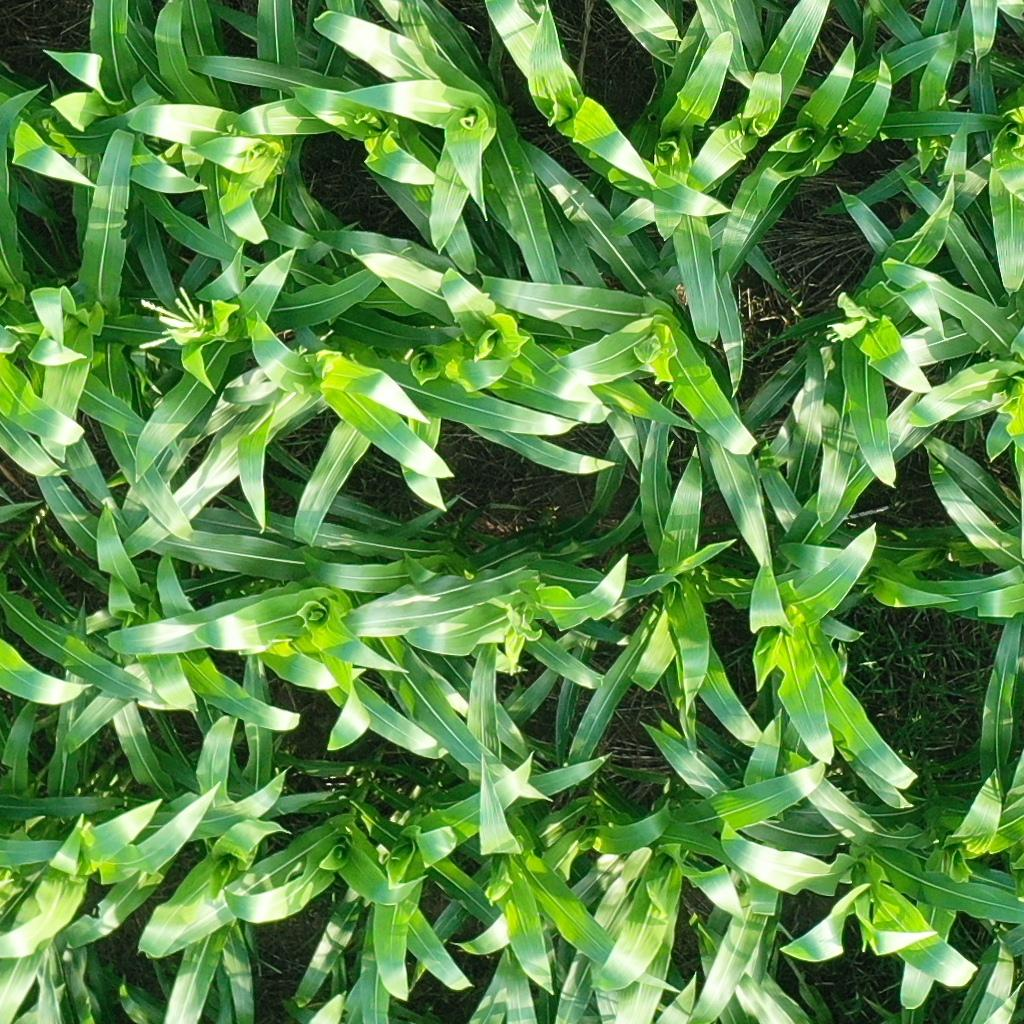Tassel: (124, 284, 229, 363)
